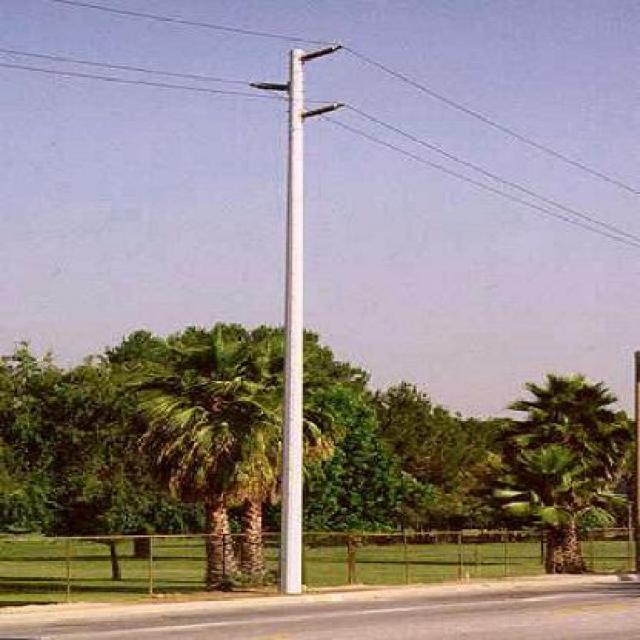pole: (242, 20, 369, 229)
